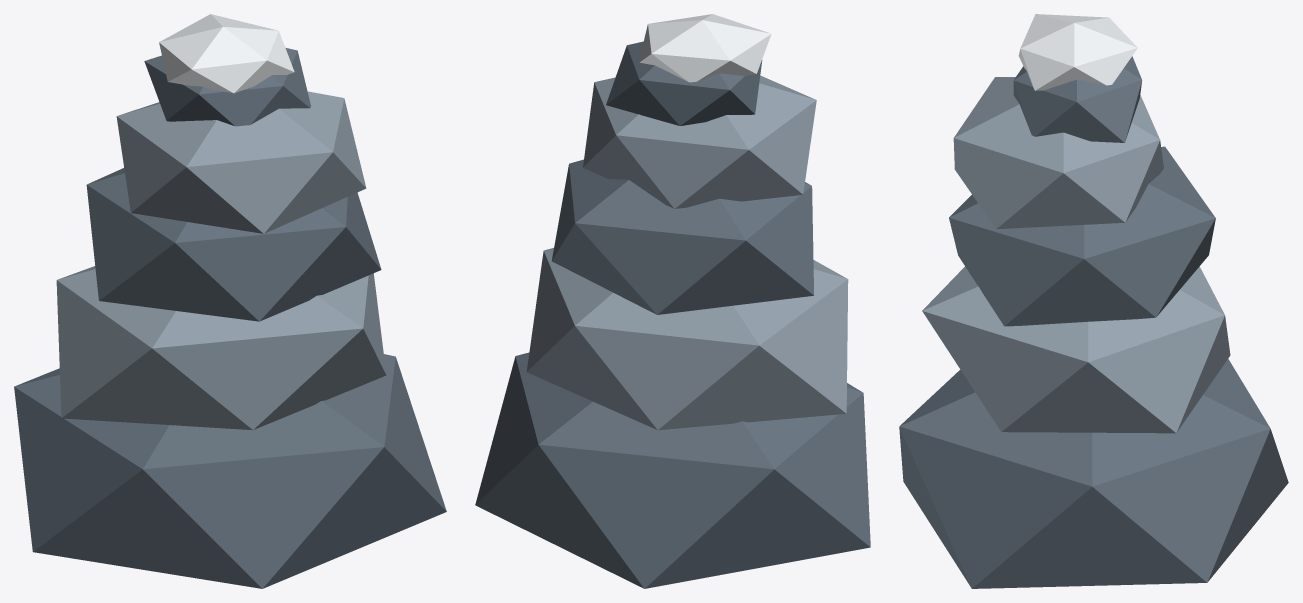
The model's file is Cairn.fbx.
3 views of the same model, side by side, from view 1: azimuth 30°, elevation 25°; view 2: azimuth 150°, elevation 25°; view 3: azimuth 270°, elevation 25° (orthographic). The views are drawn at different scales.
Visible parts, largest first — view 1: Cairn; view 2: Cairn; view 3: Cairn.
Part boxes in pixels (x1,y1,x2,y2): Cairn: [14, 14, 446, 588]; Cairn: [475, 14, 870, 588]; Cairn: [899, 14, 1288, 588].
Bounding box in the file's own units: 0.8432 × 1.24 × 0.7934.
